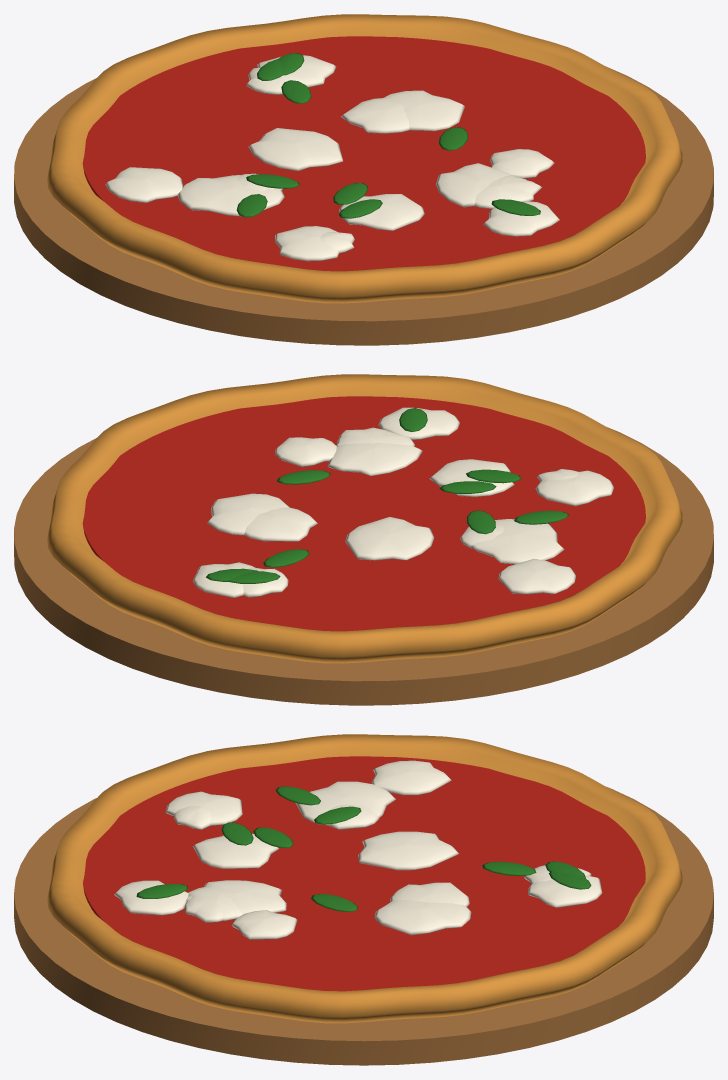
Rendered from pizza-margherita.glb.
3 views of the same model, one above another, from view 1: azimuth 30°, elevation 25°; view 2: azimuth 150°, elevation 25°; view 3: azimuth 270°, elevation 25° (orthographic).
Visible parts, largest first — view 1: sauce, crust, wood, mozzarella, basil; view 2: sauce, crust, wood, mozzarella, basil; view 3: sauce, crust, wood, mozzarella, basil.
Boxes of the visible parts, left/top/right/bottom form: sauce: left=82, top=36, right=645, bottom=271; crust: left=47, top=14, right=682, bottom=303; wood: left=14, top=66, right=713, bottom=345; mozzarella: left=105, top=55, right=559, bottom=261; basil: left=236, top=53, right=540, bottom=218; sauce: left=82, top=396, right=645, bottom=631; crust: left=47, top=374, right=682, bottom=663; wood: left=14, top=427, right=713, bottom=705; mozzarella: left=193, top=407, right=613, bottom=597; basil: left=206, top=408, right=568, bottom=583; sauce: left=83, top=756, right=645, bottom=991; crust: left=47, top=734, right=682, bottom=1023; wood: left=14, top=786, right=713, bottom=1065; mozzarella: left=114, top=760, right=602, bottom=939; basil: left=136, top=786, right=591, bottom=911.
Size of the model in its own units: 0.39 by 0.033 by 0.39.
